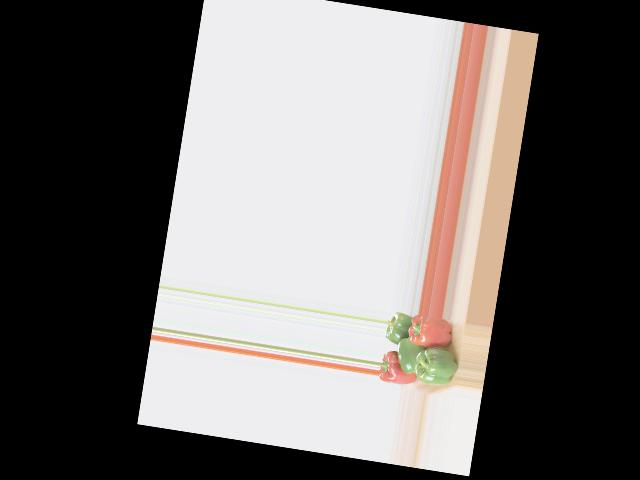bell_pepper: (407, 314, 458, 352)
